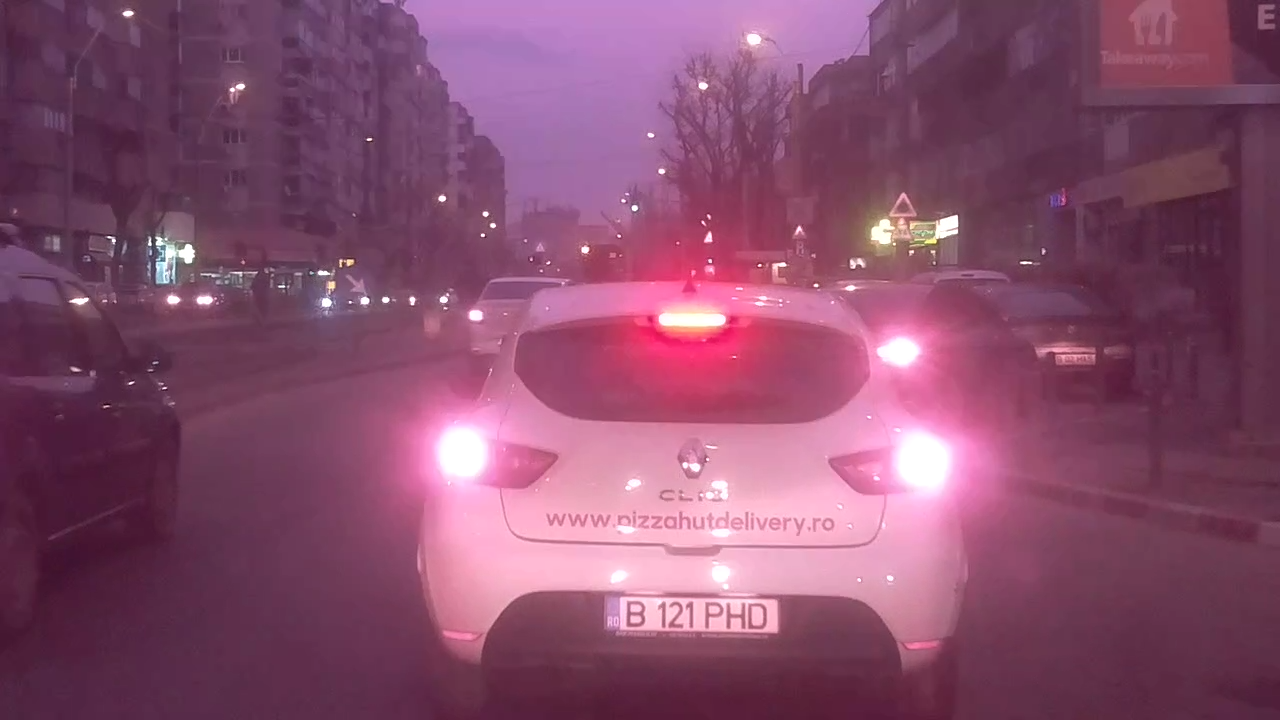license-plate: (600, 589, 783, 639)
